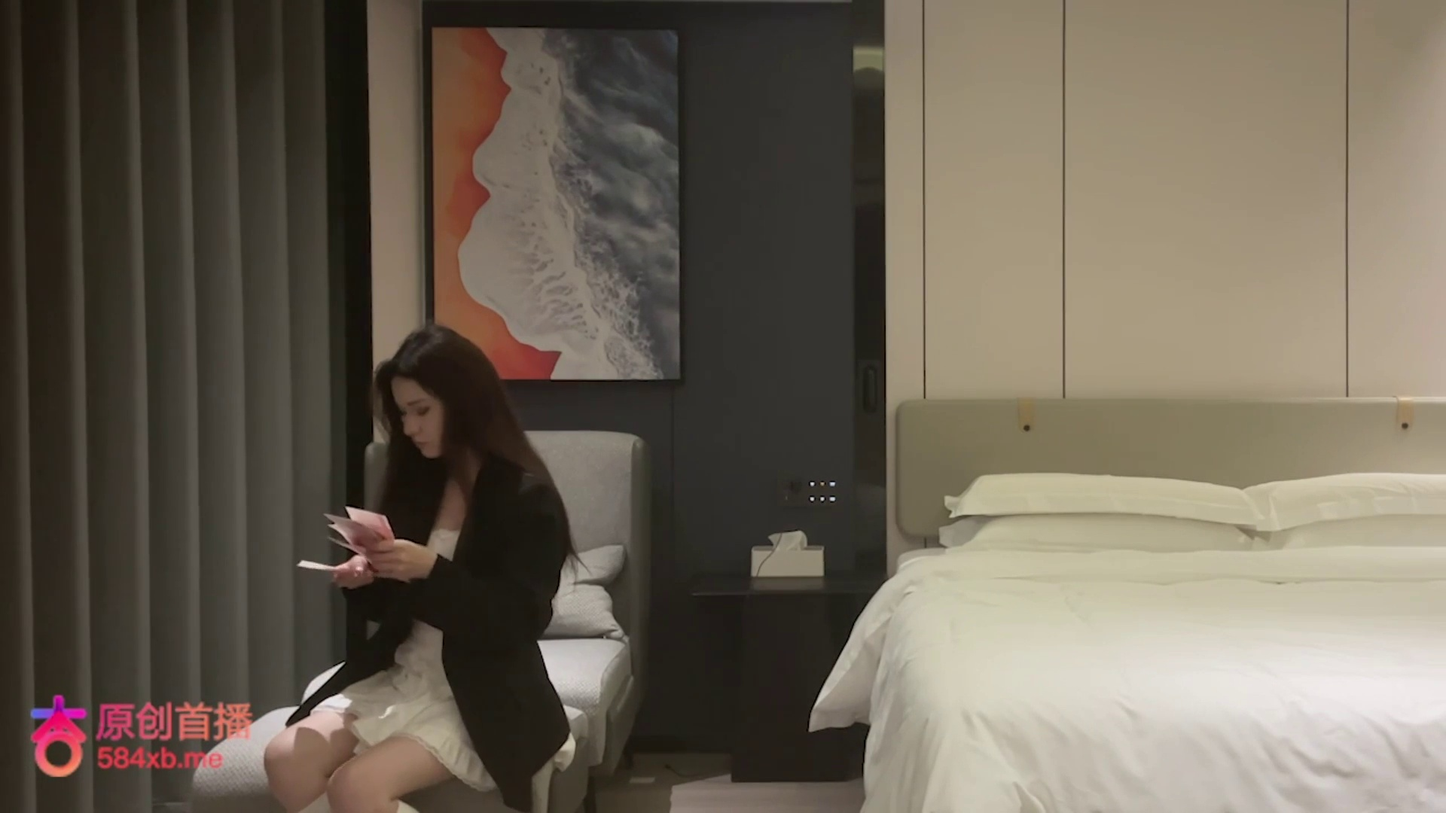sit: (263, 324, 575, 810)
